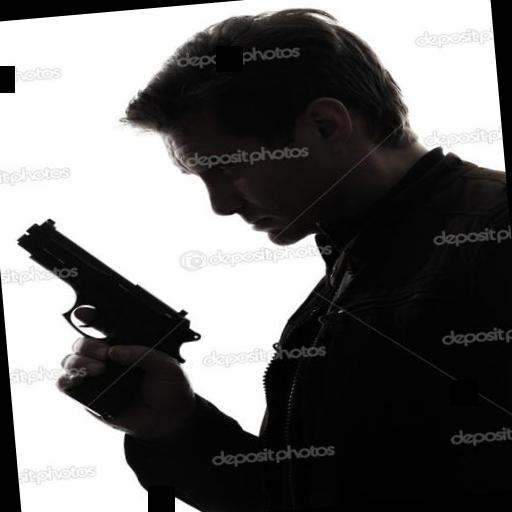Handgun: (8, 204, 210, 428)
